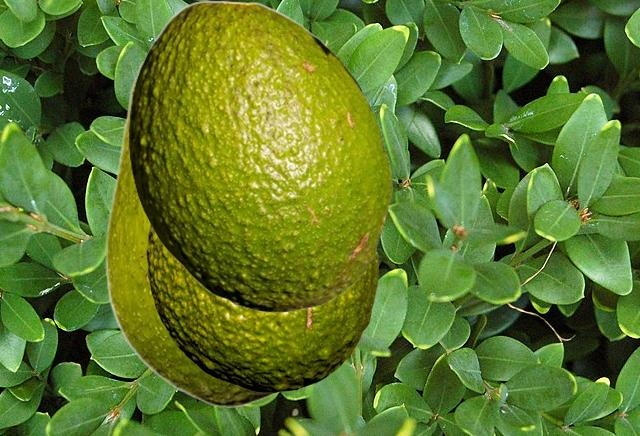avocado: (128, 0, 391, 311), (105, 56, 281, 406), (146, 223, 377, 392)
